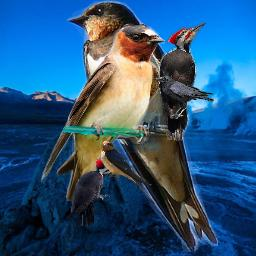Crow: (156, 76, 214, 119)
Swallow: (66, 0, 218, 252), (41, 25, 165, 201), (100, 140, 158, 205)
Woodpecker: (148, 21, 210, 141), (68, 158, 126, 226)
